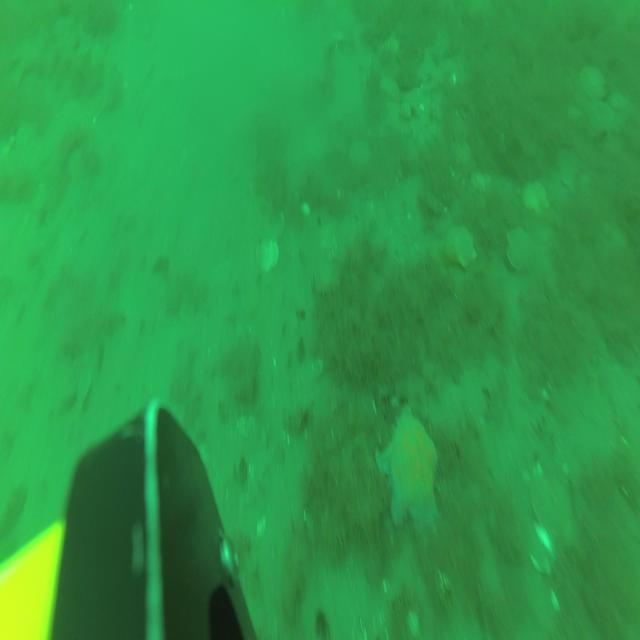scallop: (529, 473, 577, 544), (504, 221, 537, 275), (444, 224, 477, 272), (578, 60, 608, 104), (253, 236, 281, 276), (522, 181, 552, 215), (448, 136, 474, 170), (378, 71, 402, 105), (348, 138, 374, 167), (471, 167, 494, 195)
starfish: (377, 404, 440, 532)
